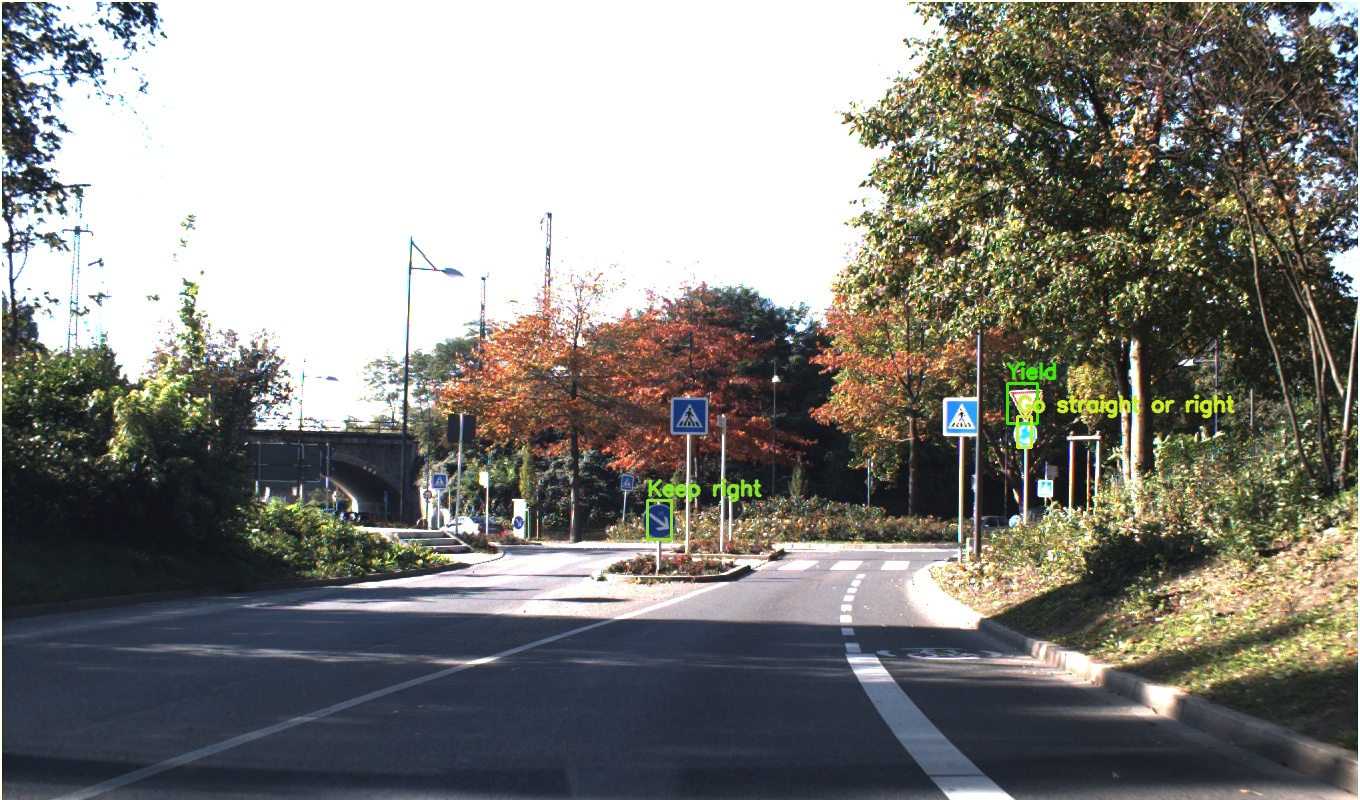Slippery road: (1120, 350, 1187, 409)
Speed limit (70km/h): (1131, 409, 1179, 456)
